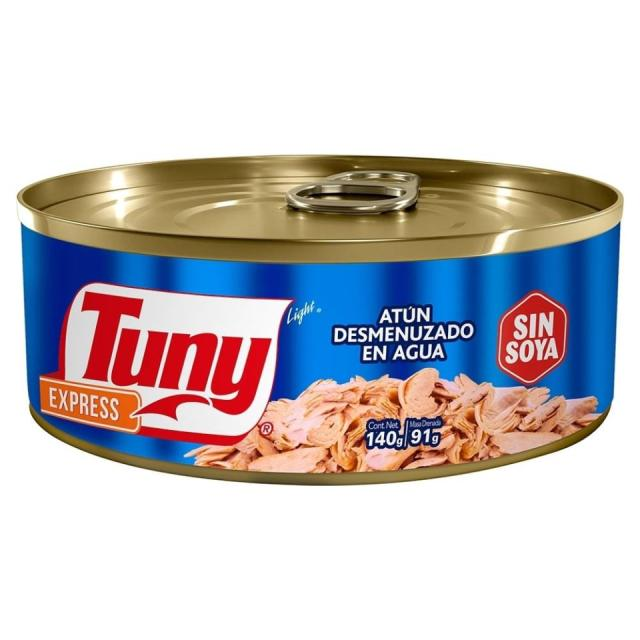Lata: (18, 152, 625, 488)
